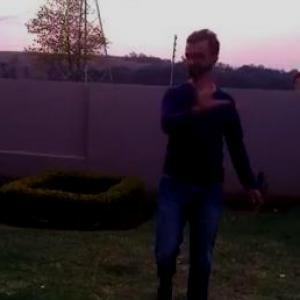follow_hand: (187, 69, 227, 114)
